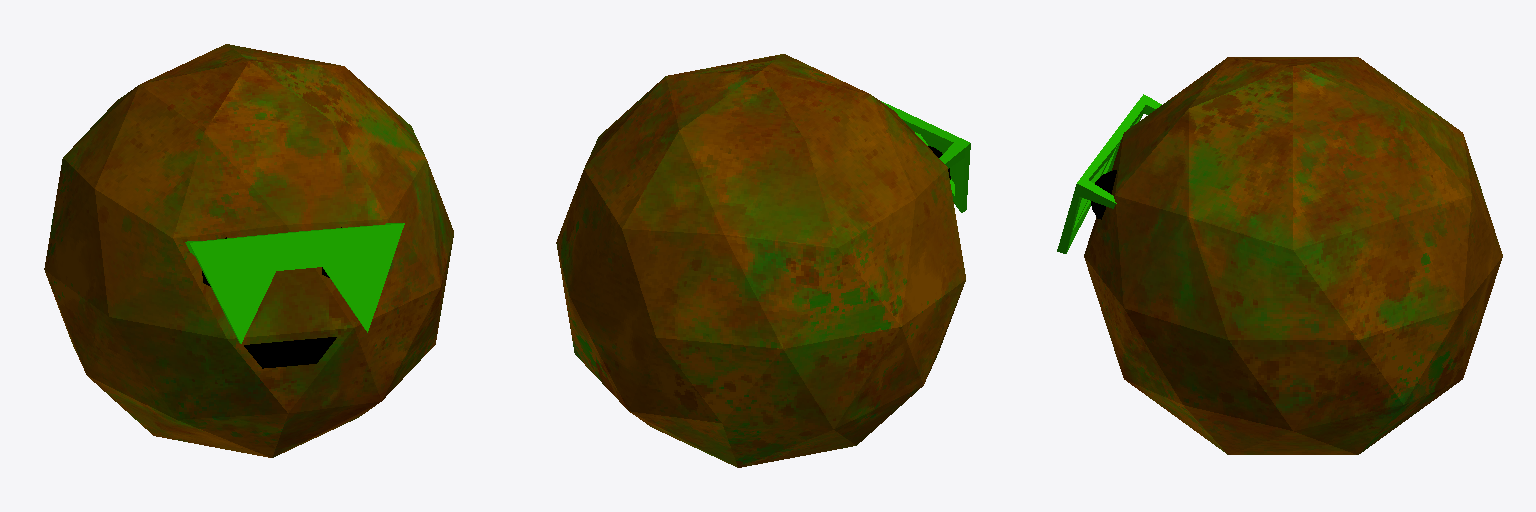
The picture shows the model from 3 angles: view 1: azimuth 30°, elevation 25°; view 2: azimuth 150°, elevation 25°; view 3: azimuth 270°, elevation 25°; orthographic projection.
Parts seen in each view (by area): view 1: piedra.003, gafas.003; view 2: piedra.003, gafas.003; view 3: piedra.003, gafas.003.
Boxes of the visible parts, x1=… form: piedra.003: x1=44, y1=44, x2=453, y2=457; gafas.003: x1=185, y1=223, x2=404, y2=343; piedra.003: x1=556, y1=54, x2=965, y2=467; gafas.003: x1=881, y1=101, x2=970, y2=212; piedra.003: x1=1084, y1=57, x2=1502, y2=454; gafas.003: x1=1057, y1=94, x2=1161, y2=253.
Bounding box in the file's own units: 4.04 × 4.25 × 4.52.
3 materials, 1 textured.